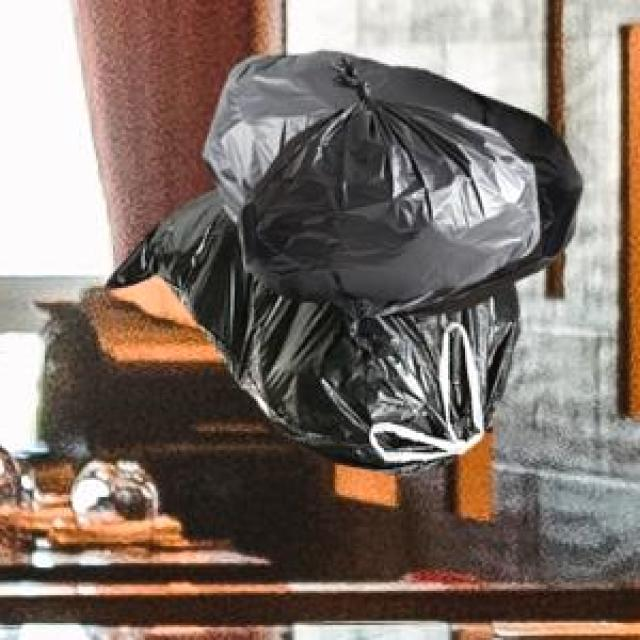Trashbag: (233, 56, 545, 303)
